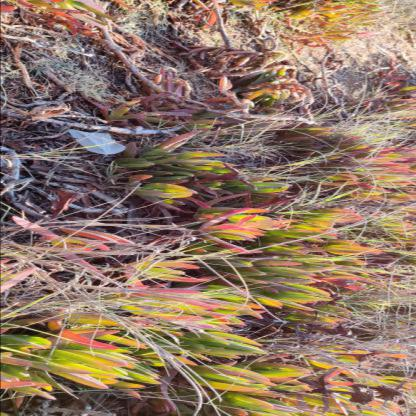Plastic bag - wrapper: (67, 129, 126, 154)
